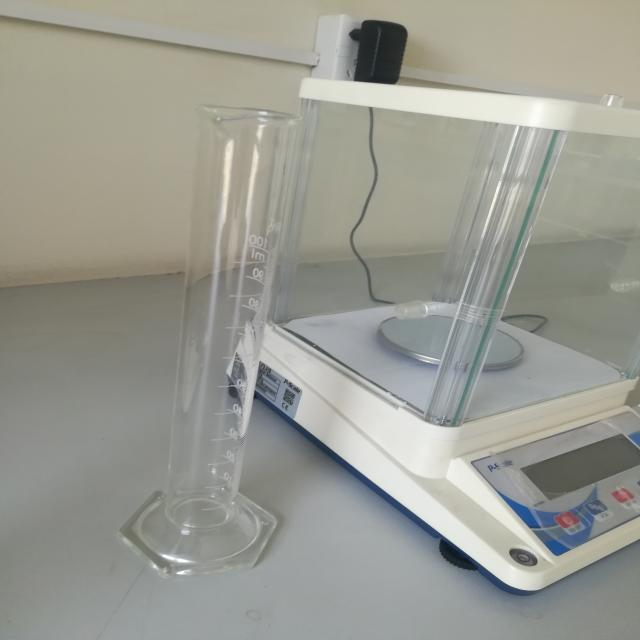Round_Bottom_Flask_Borosilicate_Glass_2_Neck: (97, 79, 339, 600)
